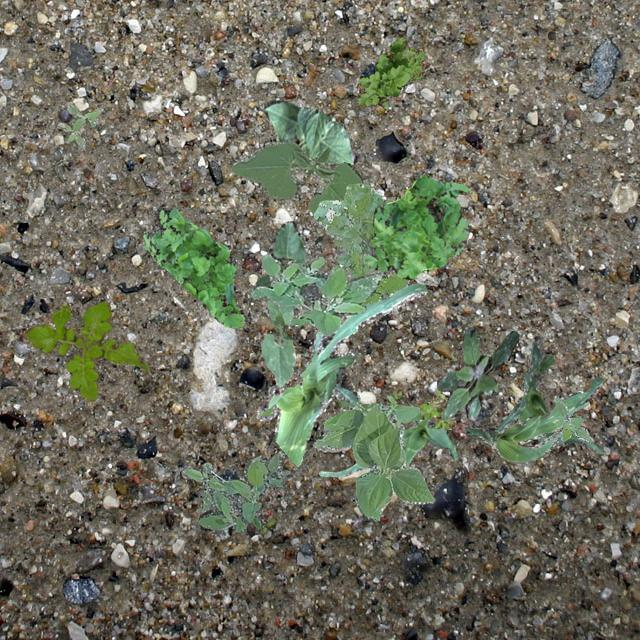crop: (254, 282, 426, 466), (312, 400, 434, 520), (463, 376, 602, 462), (518, 334, 604, 452), (228, 140, 362, 212), (318, 418, 457, 476), (262, 98, 358, 164), (250, 220, 306, 290), (260, 298, 296, 387)
weed: (24, 300, 148, 400), (142, 206, 245, 326), (312, 182, 408, 304), (362, 174, 471, 278), (250, 252, 382, 334), (180, 450, 290, 530), (436, 326, 518, 419), (356, 36, 424, 108), (388, 388, 454, 428), (56, 102, 100, 150), (552, 396, 592, 442)
